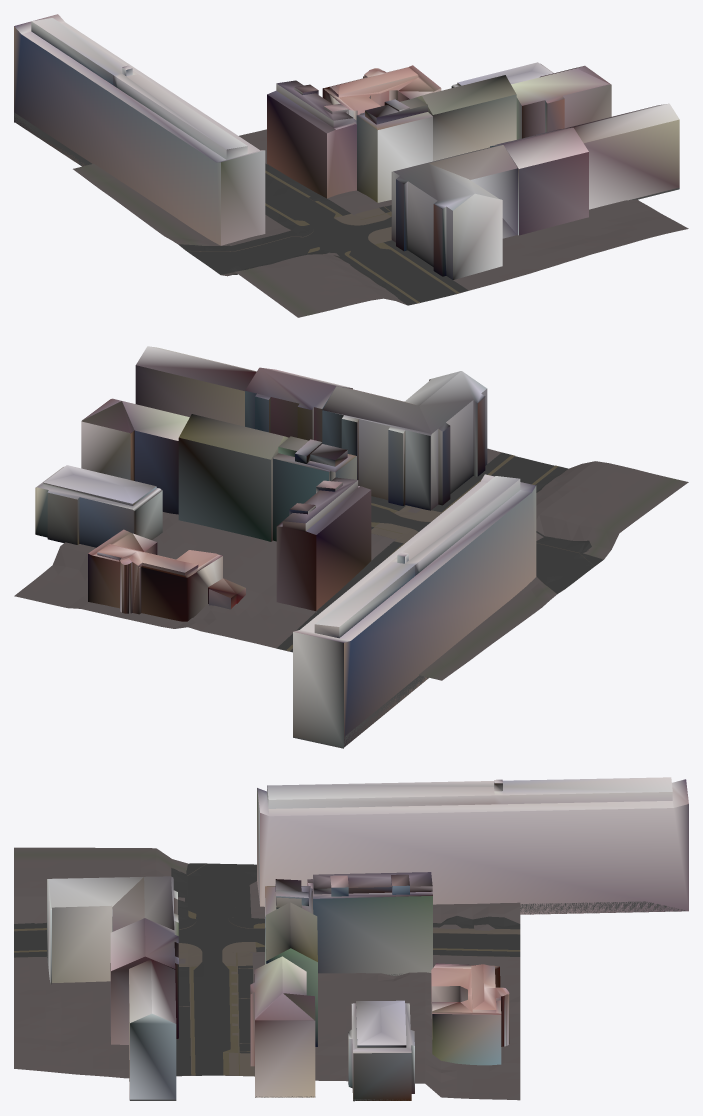
The picture shows the model from 3 angles, top to bottom: view 1: azimuth 30°, elevation 25°; view 2: azimuth 150°, elevation 25°; view 3: azimuth 270°, elevation 25°; orthographic projection. The views are drawn at different scales.
Visible parts, largest first — view 1: c_p00_m17; view 2: c_p00_m17; view 3: c_p00_m17.
Boxes of the visible parts, x1,y1,x2,y2 form: c_p00_m17: (14, 14, 688, 317); c_p00_m17: (14, 346, 688, 748); c_p00_m17: (14, 777, 688, 1101).
Size of the model in its own units: 142 by 36.1 by 171.
